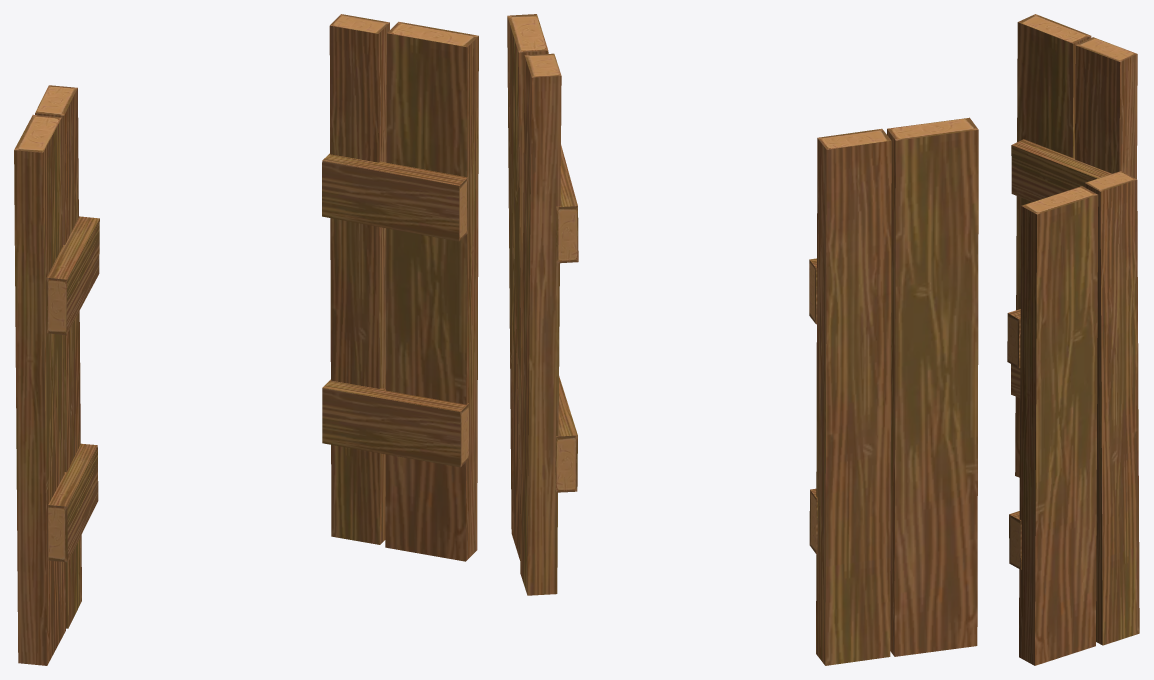
Rendered from windowshutters_thin_flat_open.glb.
The picture shows the model from 3 angles, left to right: view 1: azimuth 30°, elevation 25°; view 2: azimuth 150°, elevation 25°; view 3: azimuth 270°, elevation 25°; orthographic projection. The views are drawn at different scales.
Size of the model in its own units: 1.35 by 1.42 by 0.3771.
Materials: 1 (1 with a texture image).
